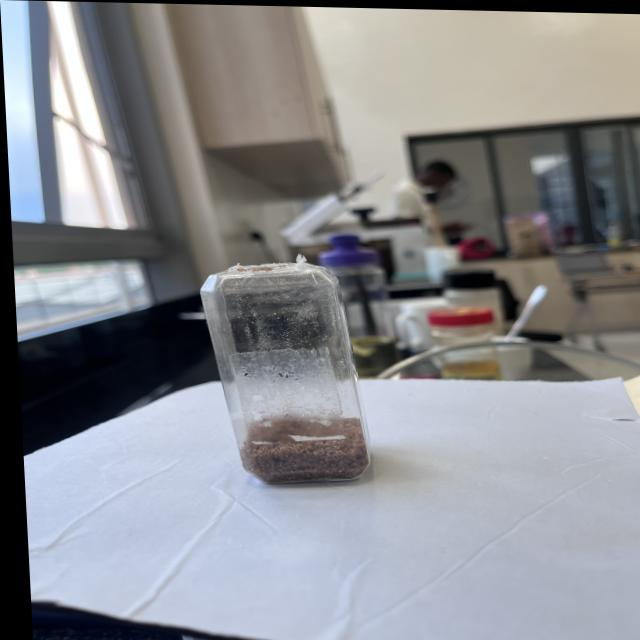maggie_open: (235, 412, 369, 484)
